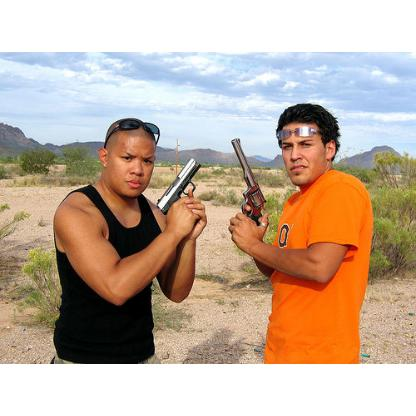gun: (228, 134, 270, 244), (158, 157, 202, 227)
